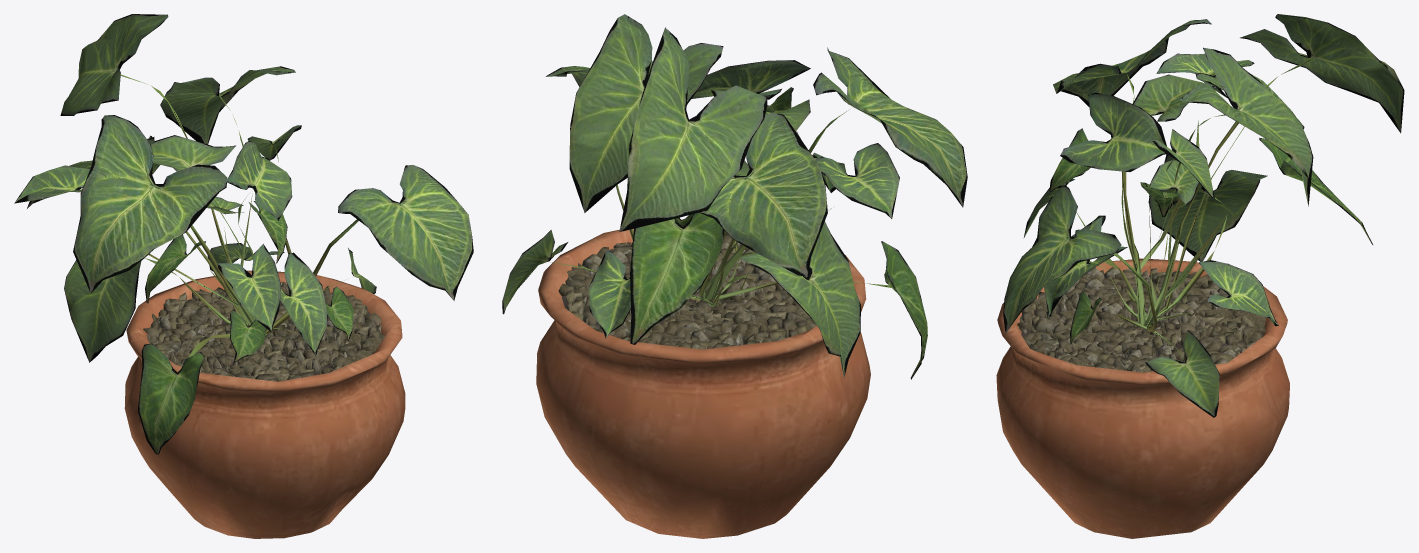
File: potted_plant_02.glb
3 views of the same model, side by side, from view 1: azimuth 30°, elevation 25°; view 2: azimuth 150°, elevation 25°; view 3: azimuth 270°, elevation 25° (orthographic). The views are drawn at different scales.
Parts seen in each view (by area): view 1: potted_plant_02_leaves, potted_plant_02_pot, potted_plant_02_dirt; view 2: potted_plant_02_leaves, potted_plant_02_pot, potted_plant_02_dirt; view 3: potted_plant_02_leaves, potted_plant_02_pot, potted_plant_02_dirt.
Boxes of the visible parts, x1,y1,x2,y2 form: potted_plant_02_leaves: [14, 14, 473, 454]; potted_plant_02_pot: [124, 270, 405, 538]; potted_plant_02_dirt: [143, 282, 384, 381]; potted_plant_02_leaves: [502, 14, 967, 379]; potted_plant_02_pot: [536, 219, 870, 538]; potted_plant_02_dirt: [558, 233, 816, 349]; potted_plant_02_leaves: [1003, 14, 1404, 417]; potted_plant_02_pot: [996, 258, 1289, 538]; potted_plant_02_dirt: [1017, 267, 1265, 372].
Bounding box in the file's own units: 0.7012 × 0.8395 × 0.6524.
2 materials, 2 textured.
